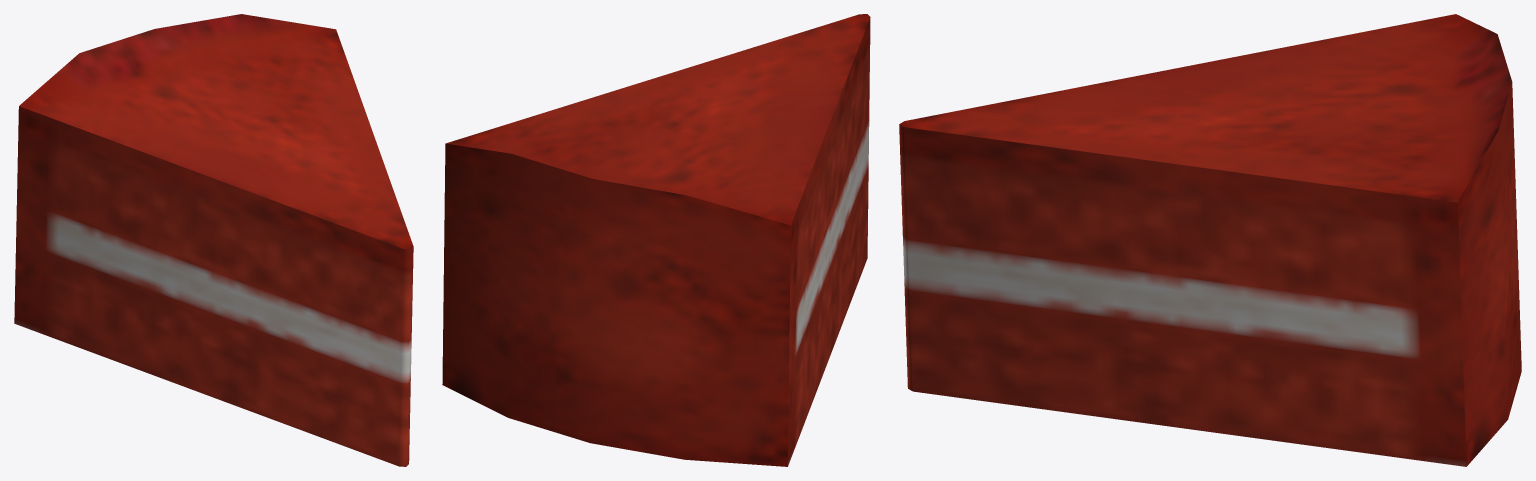
The model's file is Sapph_CakeSlice.fbx.
3 views of the same model, side by side, from view 1: azimuth 30°, elevation 25°; view 2: azimuth 150°, elevation 25°; view 3: azimuth 270°, elevation 25° (orthographic). The views are drawn at different scales.
Visible parts, largest first — view 1: CakeSlice; view 2: CakeSlice; view 3: CakeSlice.
Part boxes in pixels (x1=…): CakeSlice: x1=14, y1=14, x2=413, y2=466; CakeSlice: x1=442, y1=14, x2=870, y2=466; CakeSlice: x1=899, y1=14, x2=1521, y2=466.
Bounding box in the file's own units: 12.65 × 9.64 × 17.75.
